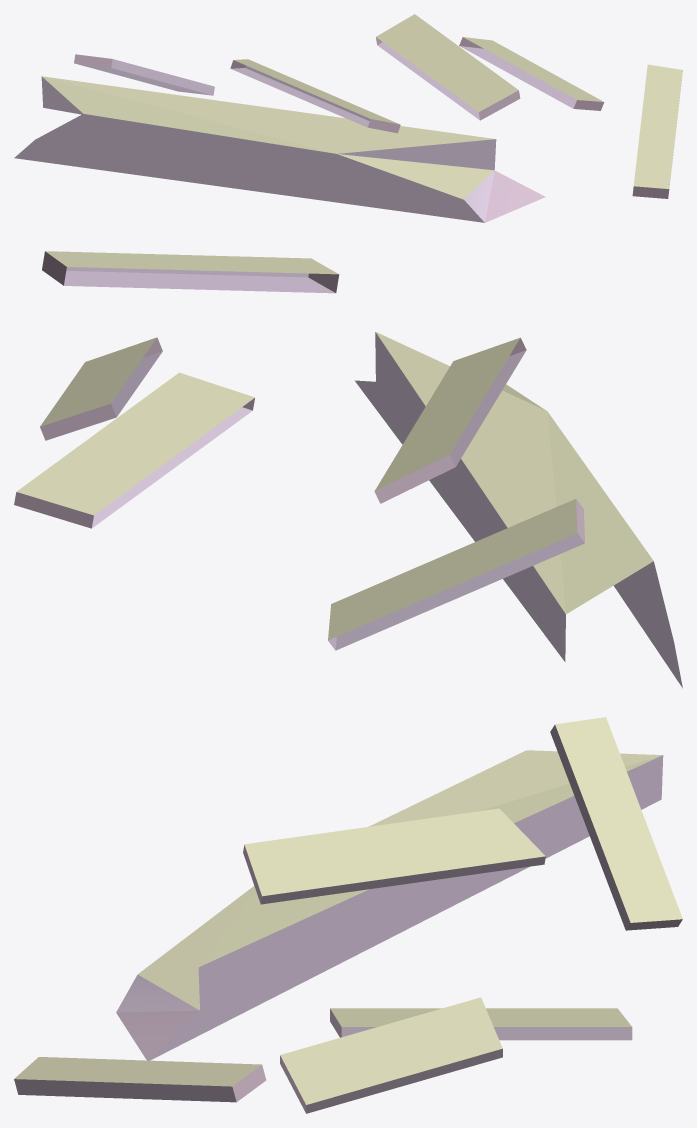
Rendered from ytlds_Object (17).fbx.
3 renders of one model, top to bottom at view 1: azimuth 30°, elevation 25°; view 2: azimuth 150°, elevation 25°; view 3: azimuth 270°, elevation 25°, orthographic. The views are drawn at different scales.
Visible parts, largest first — view 1: Object17; view 2: Object17; view 3: Object17.
Boxes of the visible parts, bbox=[...] form: Object17: bbox=[14, 14, 682, 222]; Object17: bbox=[14, 251, 682, 688]; Object17: bbox=[14, 717, 682, 1113].
Size of the model in its own units: 252 by 45.41 by 194.
